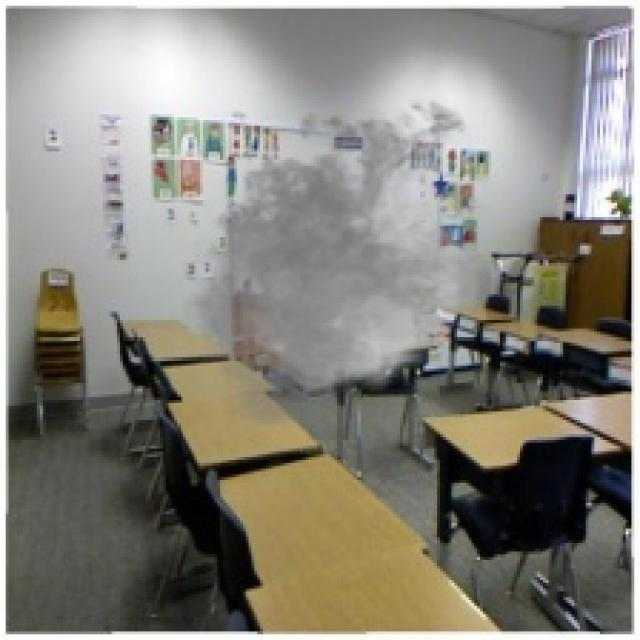Smoke: (168, 88, 526, 443)
